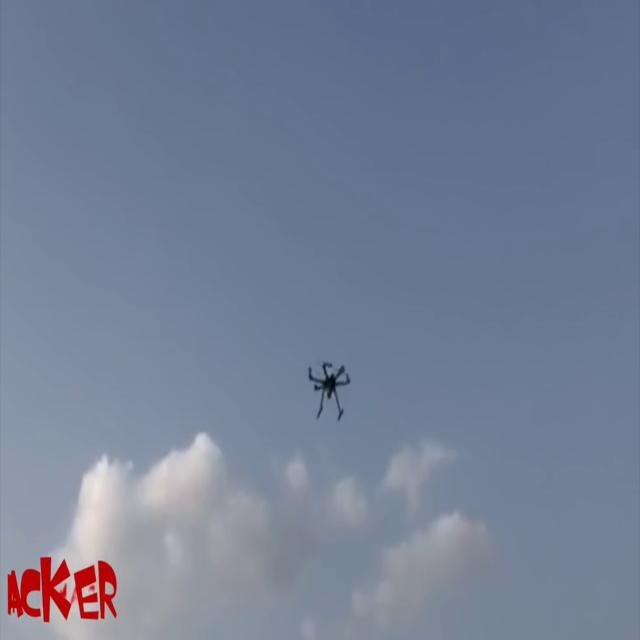drone: (308, 346, 354, 423)
